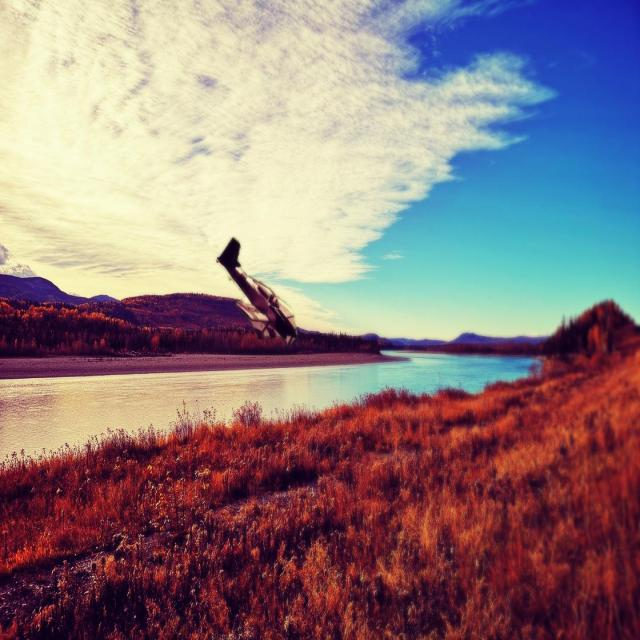airplane: (215, 236, 298, 347)
